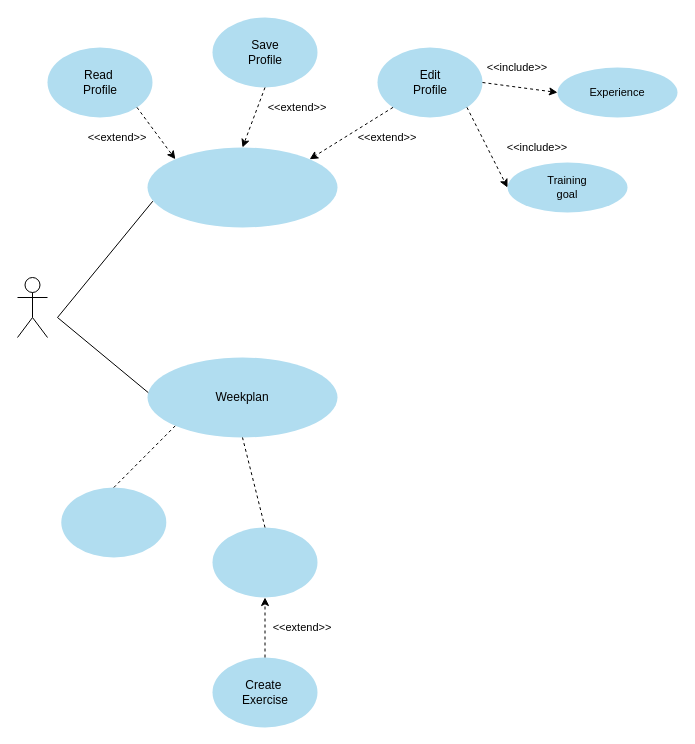
The diagram is 695 pixels wide and 744 high, and some of its shapes have lost their labels. Here are the shapes that lost their labels. From the top down, the centre of each, then its label:
At point 242,187: "Create Profil".
At point 32,307: "Actor".
At point 113,522: "Read Weekplan".
At point 264,562: "Add Exercise".
